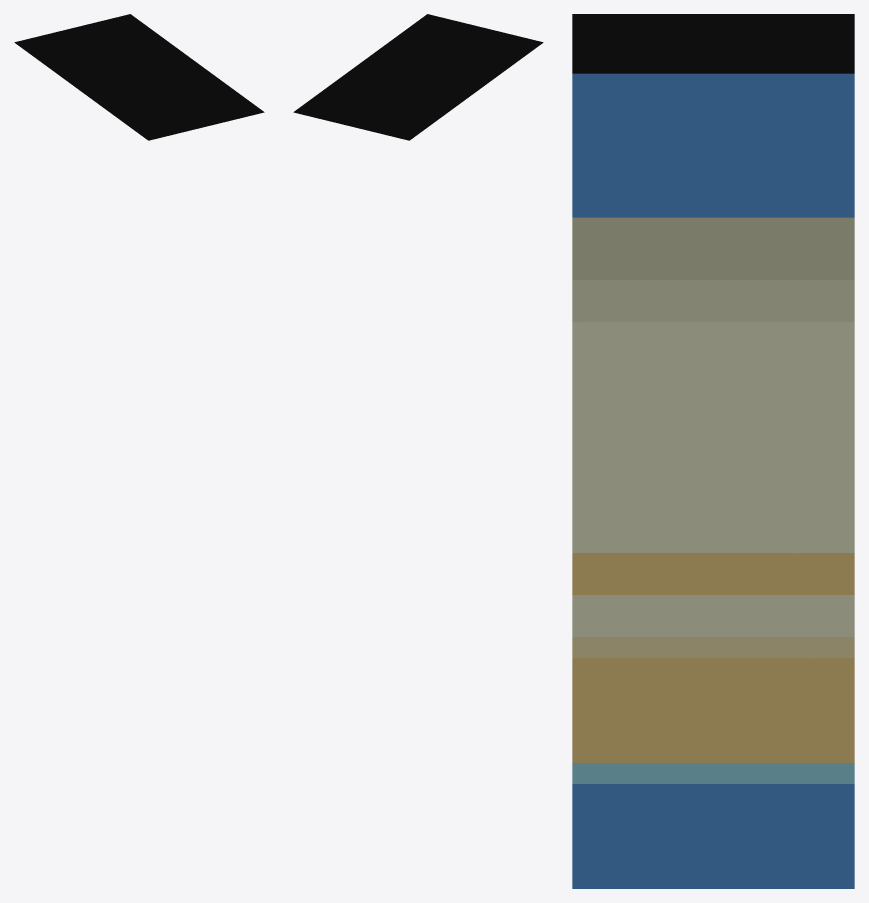
The picture shows the model from 3 angles, left to right: view 1: azimuth 30°, elevation 25°; view 2: azimuth 150°, elevation 25°; view 3: azimuth 270°, elevation 25°; orthographic projection. The views are drawn at different scales.
Bounding box in the file's own units: 0.5 × 3.19 × 1.
2 materials, 2 textured.
